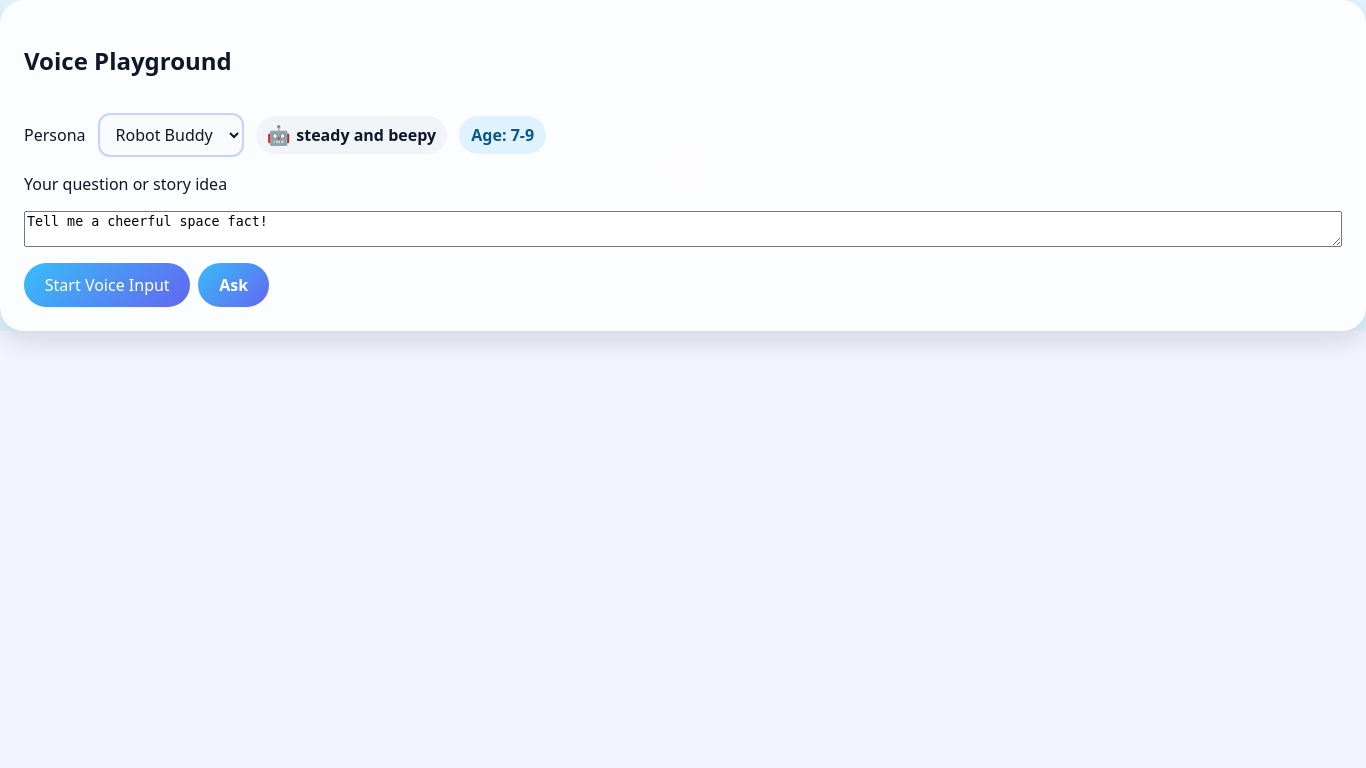
Test case: VoiceBar conversation transcript and persona voices › keeps a transcript and replays recent turns as history
Replace the text in the text box labelled "Your question or story idea" with "Why is the sky blue?": (683, 229) [24,211,1342,247]
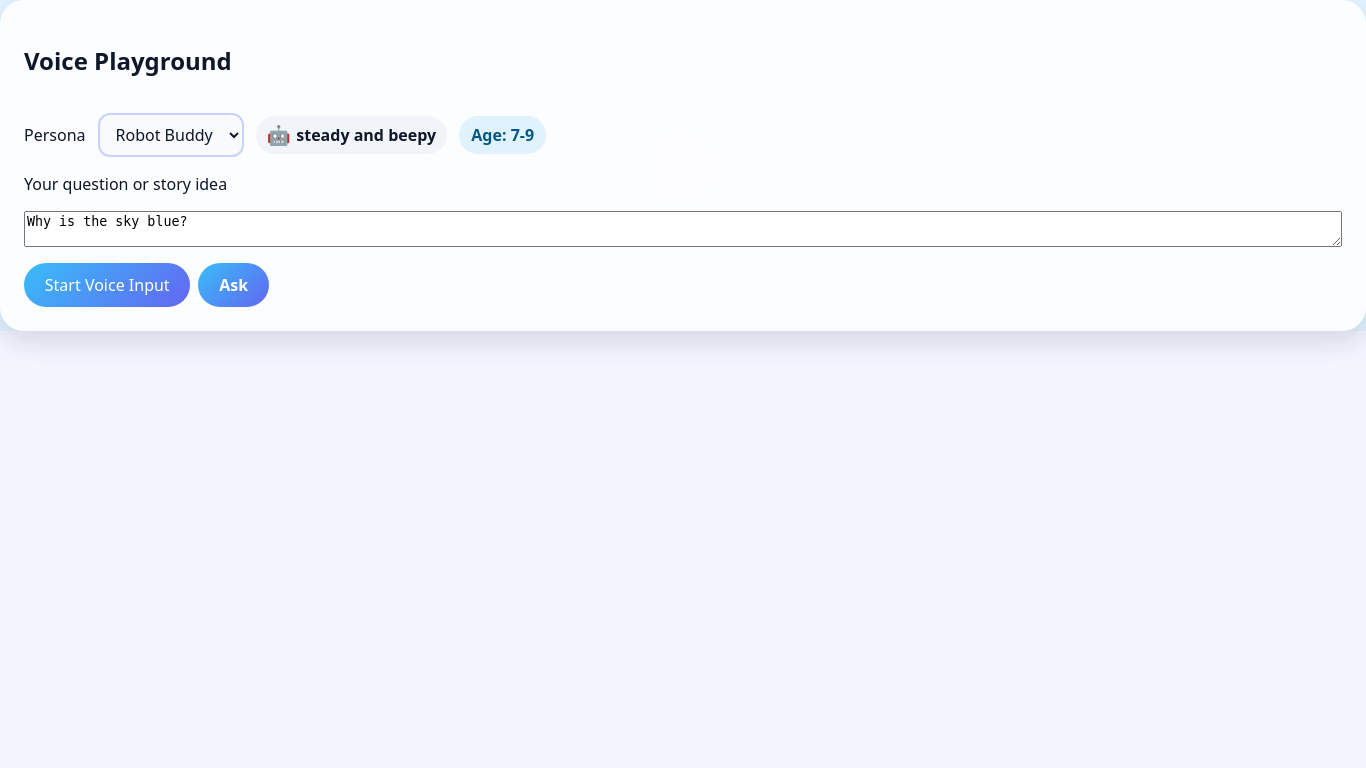
Click the button "Ask": (234, 285) [198,263,269,307]
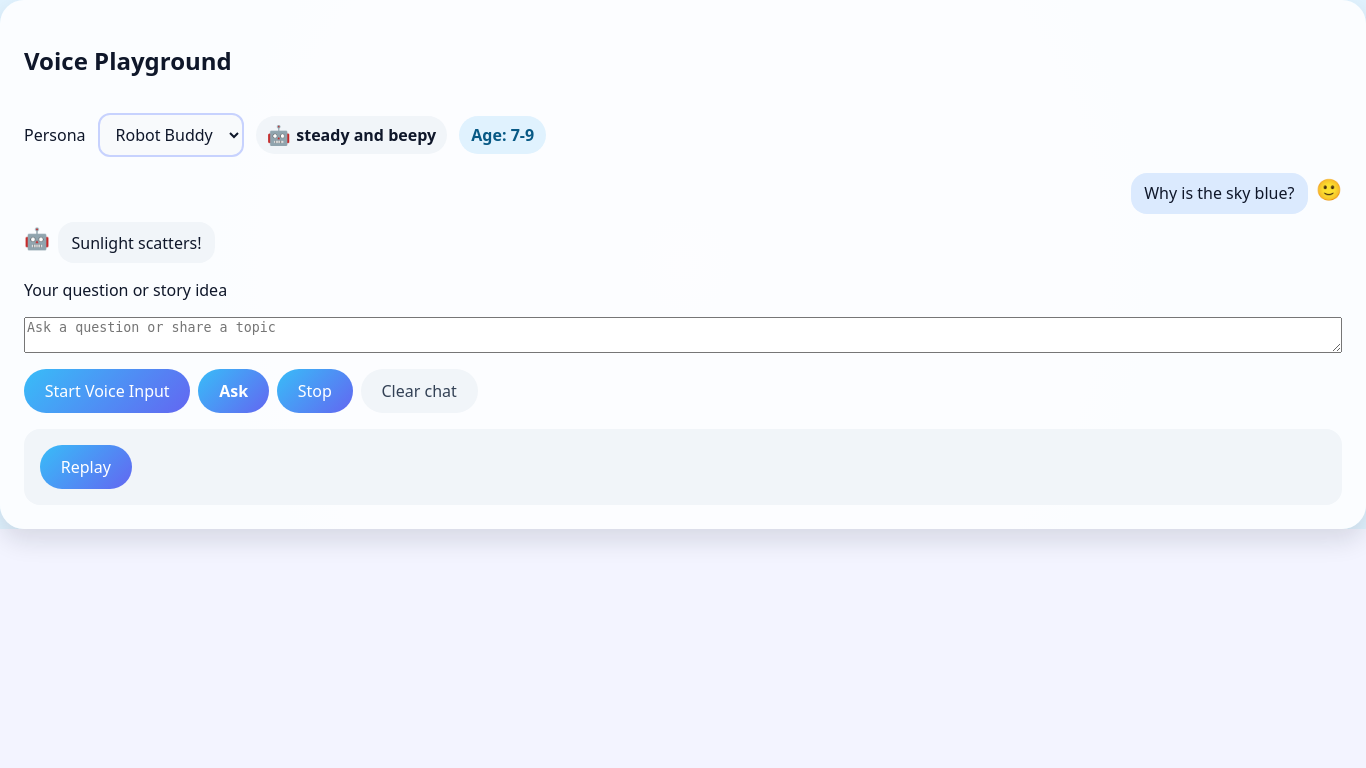
Expected: the text "Sunlight scatters!" is shown, [58,222,215,263]
In the text box labelled "Your question or story idea": (683, 335) [24,317,1342,353], type "And at sunset?"
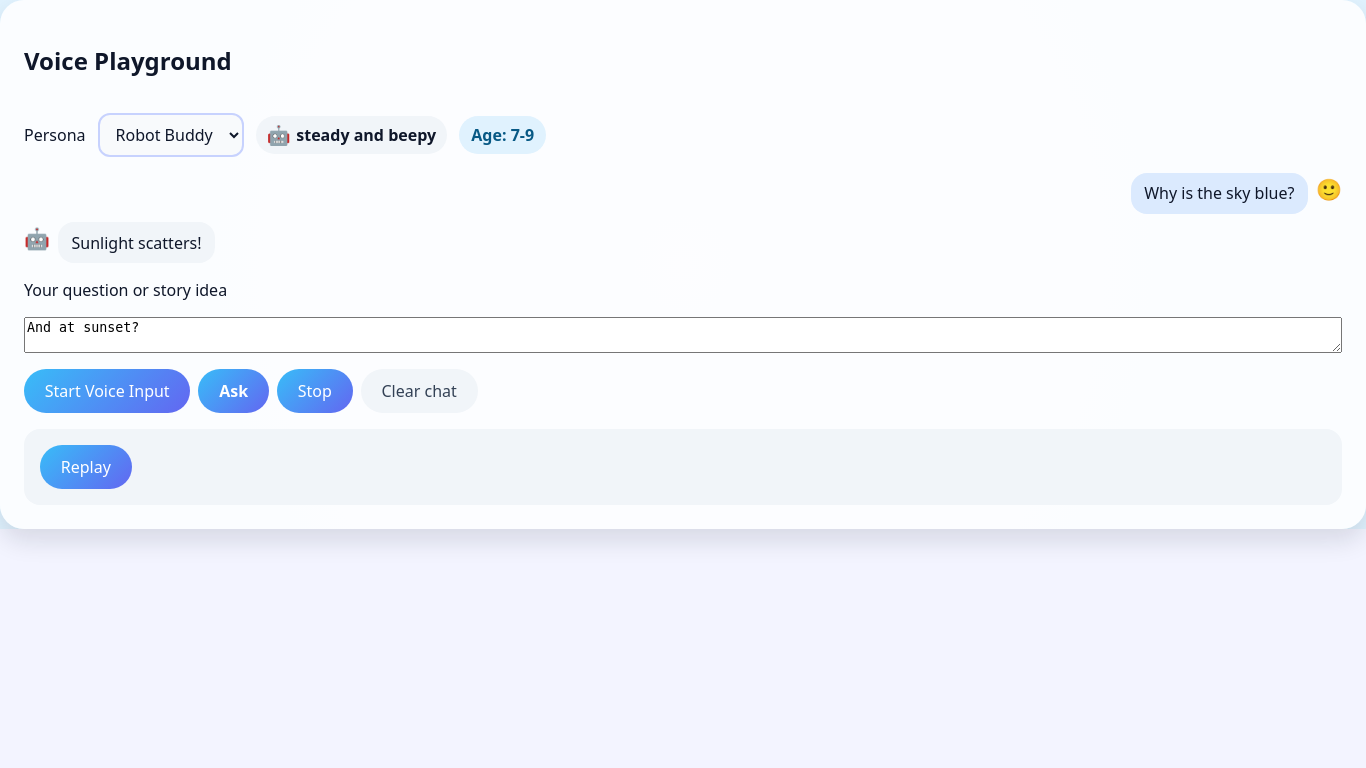
Click the button "Ask": (234, 391) [198,369,269,413]
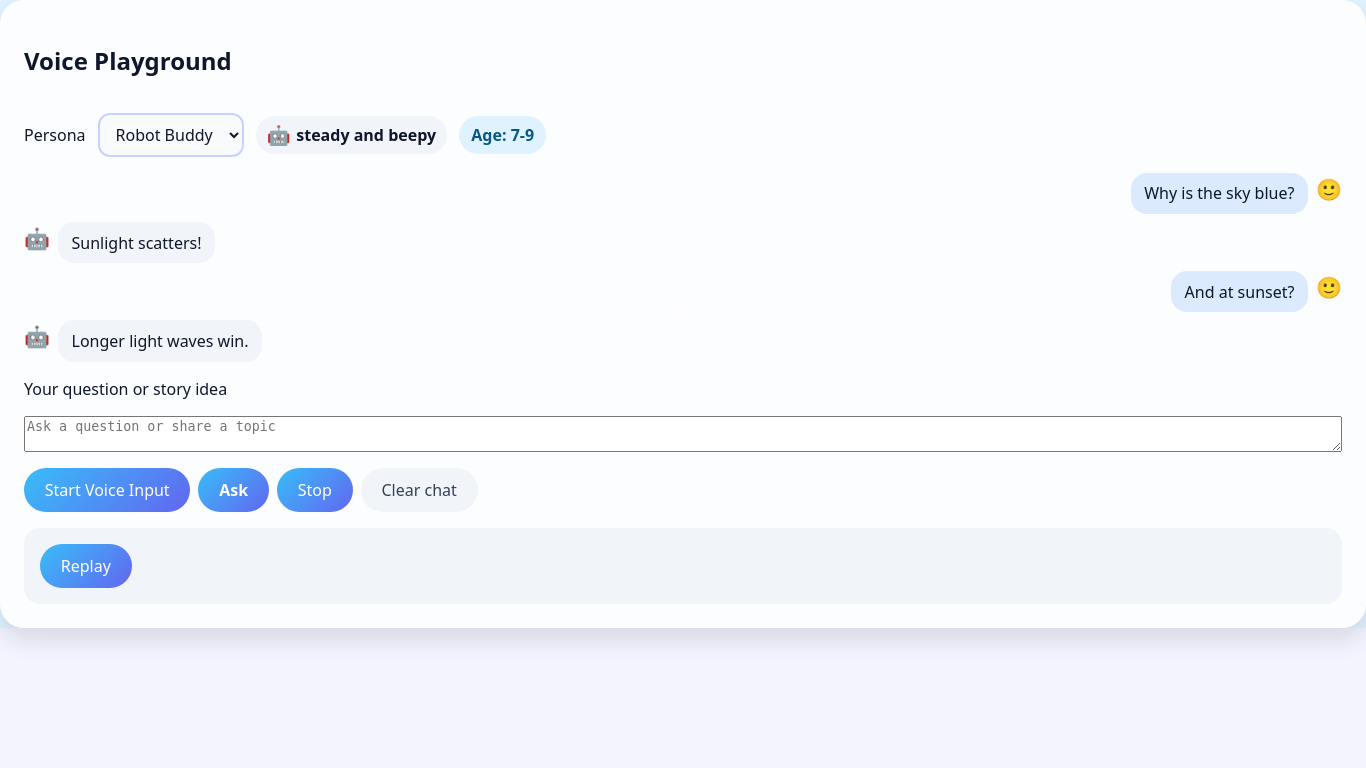
Expected: the list named "Conversation" shows "Why is the sky blue?", [1144,182,1294,204]
Expected: the list named "Conversation" shows "Sunlight scatters!", [72,232,202,254]
Expected: the text "Longer light waves win." is shown, [58,320,262,362]
